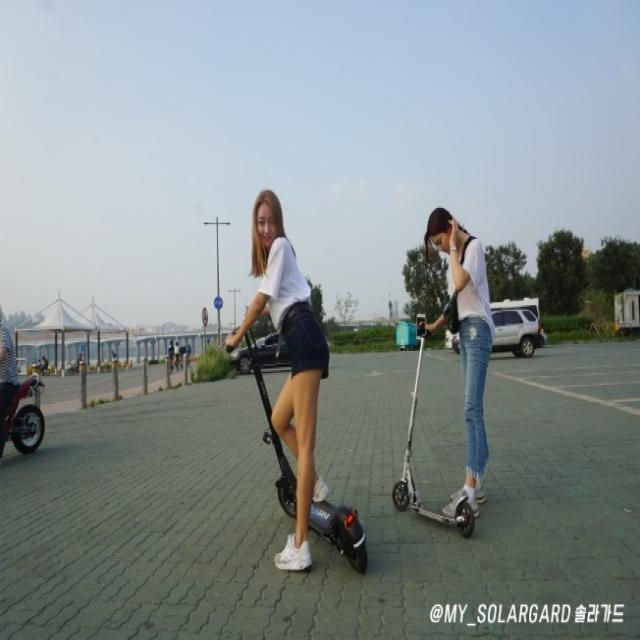non-helmet: (195, 158, 399, 601), (381, 185, 517, 571)
